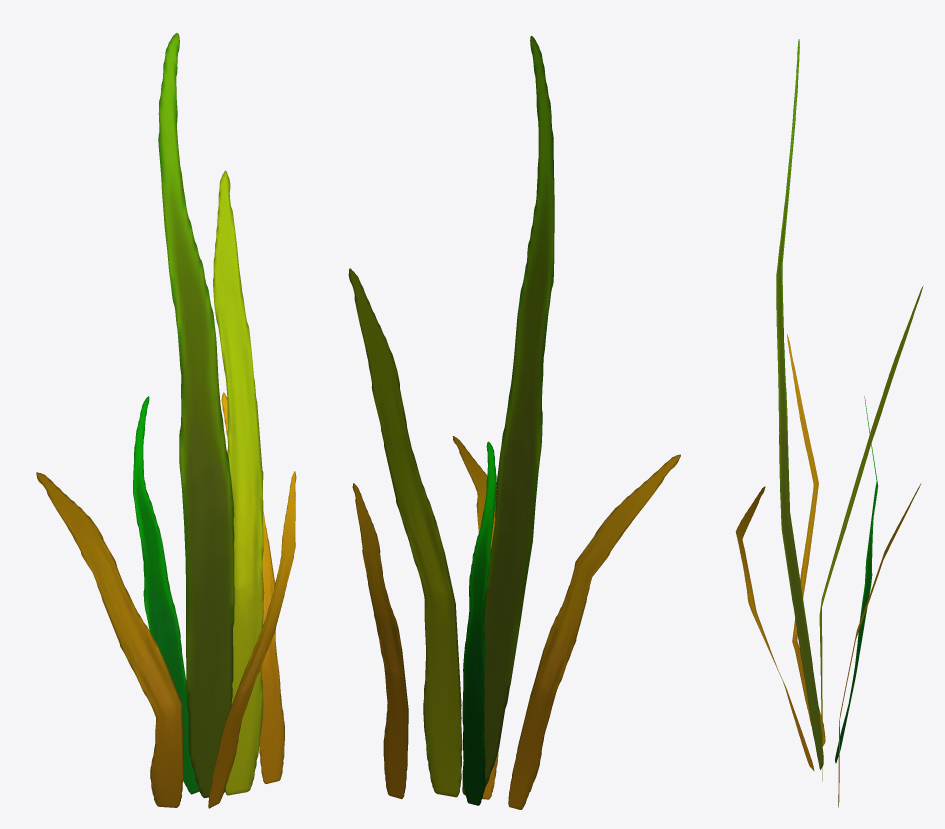
Rendered from 24_Arbustitos_Cruzados.fbx.
The picture shows the model from 3 angles, left to right: view 1: azimuth 30°, elevation 25°; view 2: azimuth 150°, elevation 25°; view 3: azimuth 270°, elevation 25°; orthographic projection. The views are drawn at different scales.
Visible parts, largest first — view 1: 24_Arbustitos_Cruzados; view 2: 24_Arbustitos_Cruzados; view 3: 24_Arbustitos_Cruzados.
Boxes of the visible parts, box(x1,y1,x2,y2) form: 24_Arbustitos_Cruzados: box(36, 33, 296, 808); 24_Arbustitos_Cruzados: box(348, 36, 680, 809); 24_Arbustitos_Cruzados: box(735, 39, 923, 807).
Bounding box in the file's own units: 27.63 × 70.33 × 17.26.
